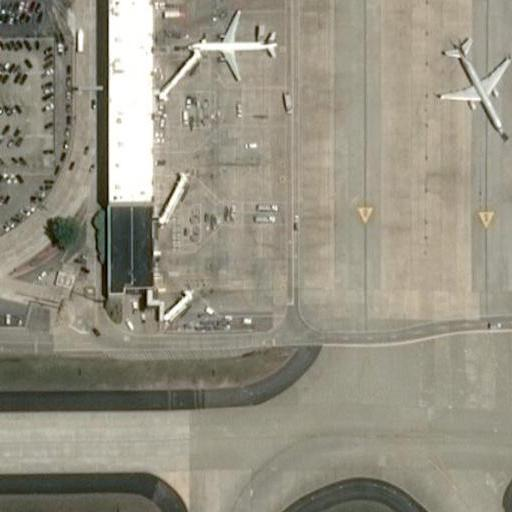Aircraft: (427, 34, 512, 140), (184, 11, 278, 79)
